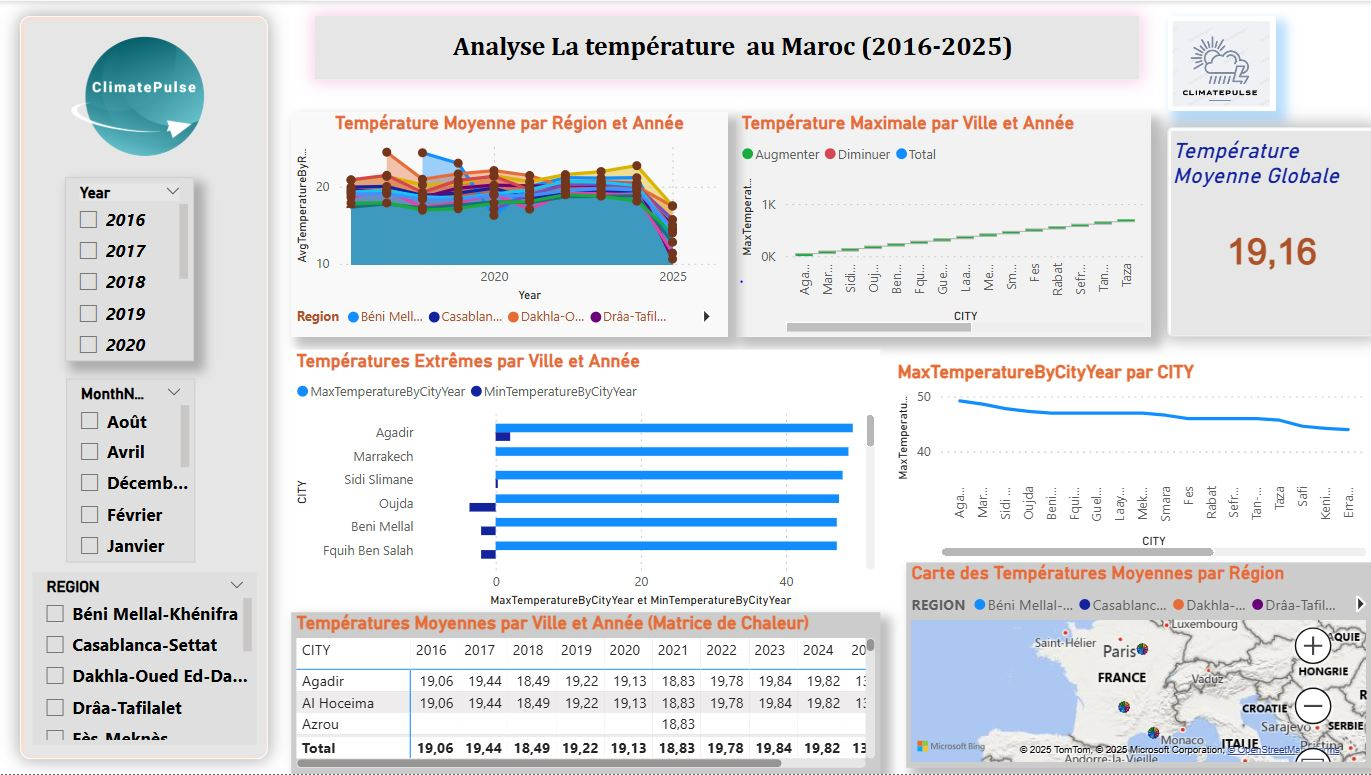

The page's visual inventory and layout, read from the dashboard file:
{"tool":"powerbi","page":{"name":"Temperature","canvas":[1280,720],"ordinal":1},"visuals":[{"type":"shape","box":[18.1,14.2,230.8,691.1],"z":0},{"type":"shape","box":[292.7,14.2,767.1,59.3],"z":1000},{"type":"textbox","box":[292.7,21.9,777.4,42.5],"z":2000},{"type":"image","box":[29.7,14.2,208.9,149.6],"z":3000},{"type":"image","box":[1085.6,14.2,100.6,89],"z":4000},{"type":"slicer","fields":{"Values":["WEATHER_DATA.Year"]},"box":[60.6,163.7,119.9,171.5],"z":5000},{"type":"slicer","fields":{"Values":["WEATHER_DATA.MonthName"]},"box":[61.9,350.7,119.9,171.5],"z":6000},{"type":"slicer","fields":{"Values":["WEATHER_DATA.REGION"]},"box":[29.7,531.2,208.9,161.2],"z":7000},{"type":"lineChart","title":"Température Moyenne par Région et Année","fields":{"Category":["WEATHER_DATA.Year"],"Y":["WEATHER_DATA.AvgTemperatureByRegionYear"],"Series":["WEATHER_DATA.REGION"]},"box":[270.8,103.1,406.1,208.9],"z":8000},{"type":"waterfallChart","title":"Température Maximale par Ville et Année","fields":{"Category":["WEATHER_DATA.CITY","WEATHER_DATA.Year"],"Y":["WEATHER_DATA.MaxTemperatureByCityYear"]},"box":[684.6,103.1,385.5,208.9],"z":9000},{"type":"clusteredBarChart","title":"Températures Extrêmes par Ville et Année","fields":{"Category":["WEATHER_DATA.CITY"],"Y":["WEATHER_DATA.MaxTemperatureByCityYear","WEATHER_DATA.MinTemperatureByCityYear"]},"box":[270.8,324.9,547.9,243.7],"z":10000},{"type":"map","title":"Carte des Températures Moyennes par Région","fields":{"Series":["WEATHER_DATA.REGION"],"Category":["RegionCoordinates.AvgLongitude","RegionCoordinates.AvgLatitude"],"Size":["WEATHER_DATA.AvgTemperatureByRegionYear"]},"box":[843.2,522.2,433.2,190.8],"z":11000},{"type":"lineChart","fields":{"Y":["WEATHER_DATA.MaxTemperatureByCityYear"],"Category":["WEATHER_DATA.CITY"]},"box":[830.3,335.2,446.1,186.9],"z":12000},{"type":"shape","box":[1085.6,117.3,194.7,194.7],"z":13000},{"type":"card","title":"Température Moyenne Globale","fields":{"Values":["WEATHER_DATA.GlobalAvgTemperature"]},"box":[1085.6,126.4,194.7,163.7],"z":14000},{"type":"pivotTable","title":"Températures Moyennes par Ville et Année (Matrice de Chaleur)","fields":{"Rows":["WEATHER_DATA.CITY"],"Columns":["WEATHER_DATA.Year"],"Values":["WEATHER_DATA.AvgTemperatureByRegionYear"]},"box":[271,569,548,150],"z":15000}]}

Visuals, with their boxes in screenshot pixels (x1, y1, x2, y2), scaled from the page's 1280x720 canvas onto the 1371x775 screenshot:
shape: [x1=19, y1=15, x2=267, y2=759]
shape: [x1=314, y1=15, x2=1135, y2=79]
textbox: [x1=314, y1=24, x2=1146, y2=69]
image: [x1=32, y1=15, x2=256, y2=176]
image: [x1=1163, y1=15, x2=1271, y2=111]
slicer - WEATHER_DATA.Year: [x1=65, y1=176, x2=193, y2=361]
slicer - WEATHER_DATA.MonthName: [x1=66, y1=377, x2=195, y2=562]
slicer - WEATHER_DATA.REGION: [x1=32, y1=572, x2=256, y2=745]
"Température Moyenne par Région et Année" lineChart: [x1=290, y1=111, x2=725, y2=336]
"Température Maximale par Ville et Année" waterfallChart: [x1=733, y1=111, x2=1146, y2=336]
"Températures Extrêmes par Ville et Année" clusteredBarChart: [x1=290, y1=350, x2=877, y2=612]
"Carte des Températures Moyennes par Région" map: [x1=903, y1=562, x2=1367, y2=767]
lineChart - WEATHER_DATA.MaxTemperatureByCityYear x WEATHER_DATA.CITY: [x1=889, y1=361, x2=1367, y2=562]
shape: [x1=1163, y1=126, x2=1370, y2=336]
"Température Moyenne Globale" card: [x1=1163, y1=136, x2=1370, y2=312]
"Températures Moyennes par Ville et Année (Matrice de Chaleur)" pivotTable: [x1=290, y1=612, x2=877, y2=774]
